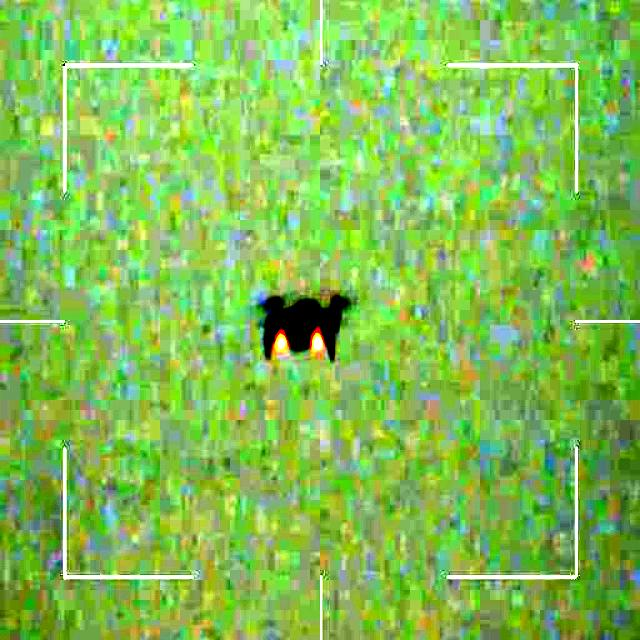bird: (256, 289, 354, 364)
